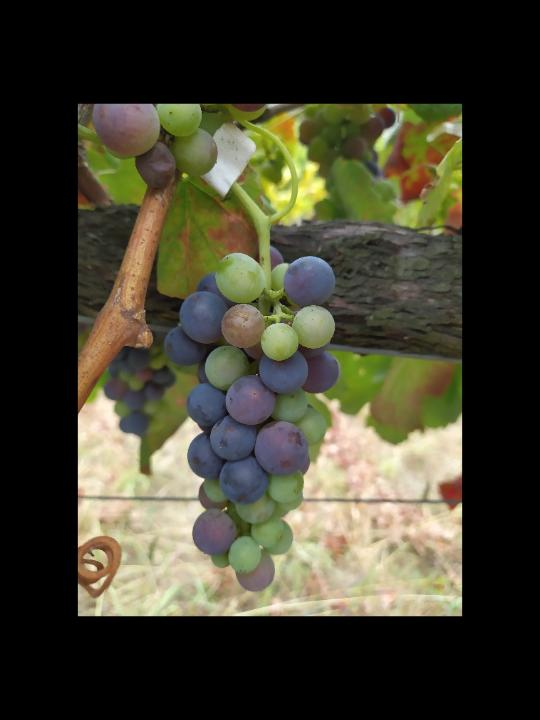grape: (161, 253, 341, 595)
